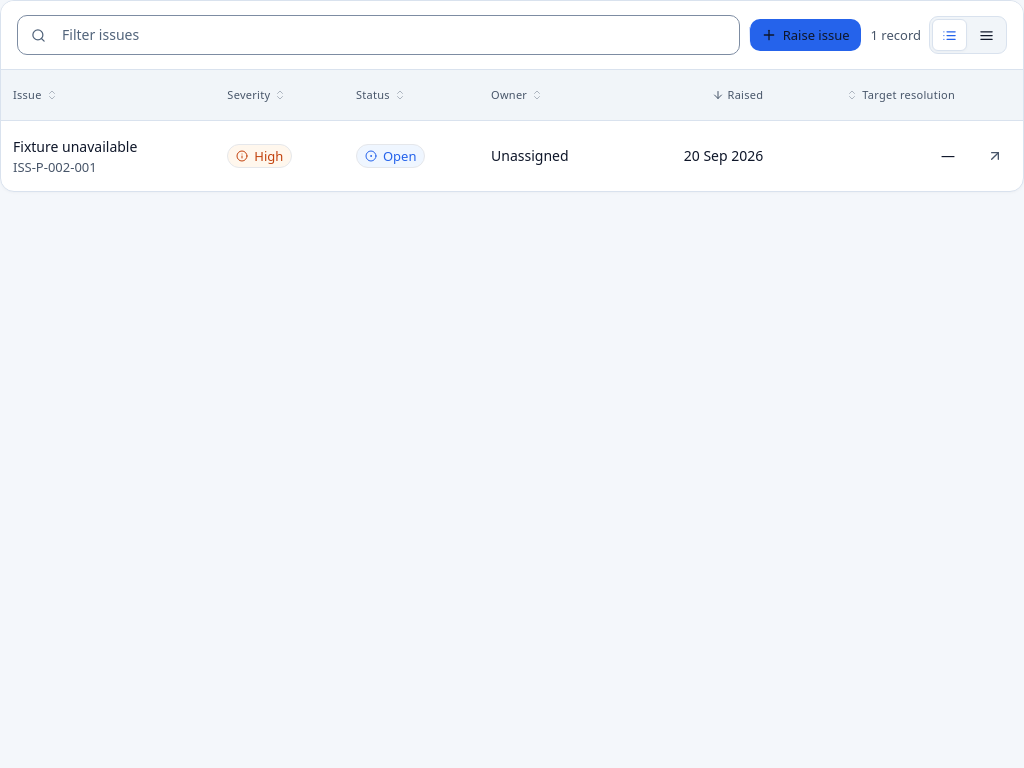
Test: issue register › raises an issue without inventing its reference
Click the button named "Raise issue" at (805, 35), box [748, 17, 863, 53]
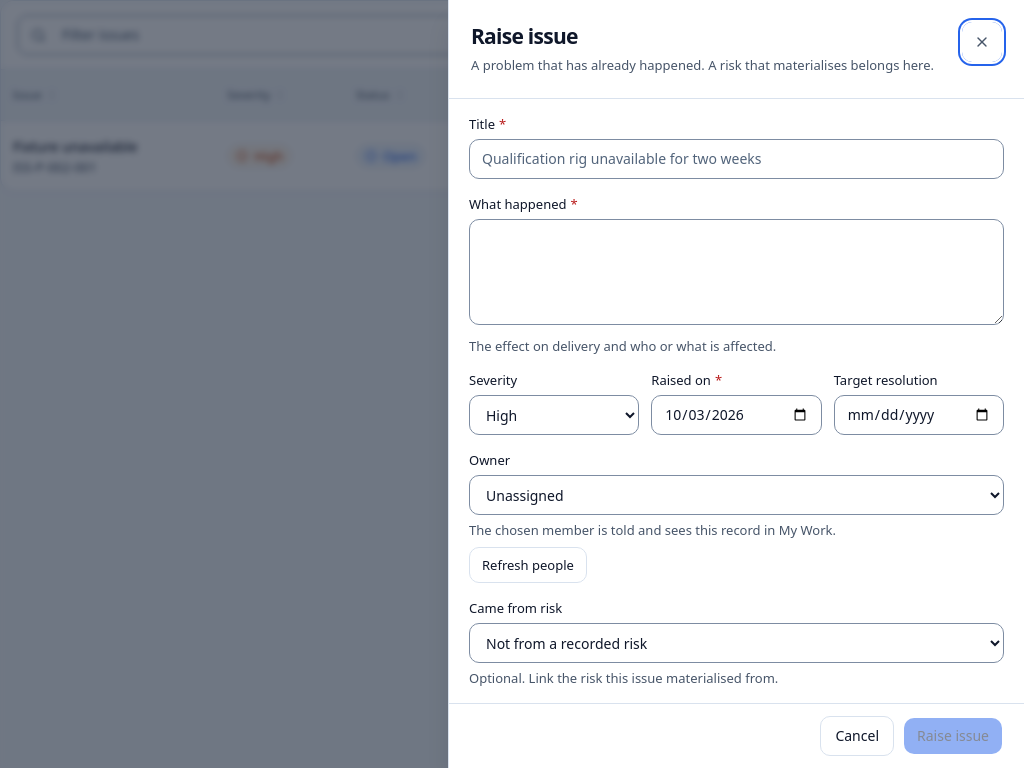
Check: the 3rd button named "Raise issue" is disabled, box [902, 716, 1004, 756]
Type "Supplier sample late" into the field labelled "Title" at (736, 159), box [469, 139, 1004, 179]
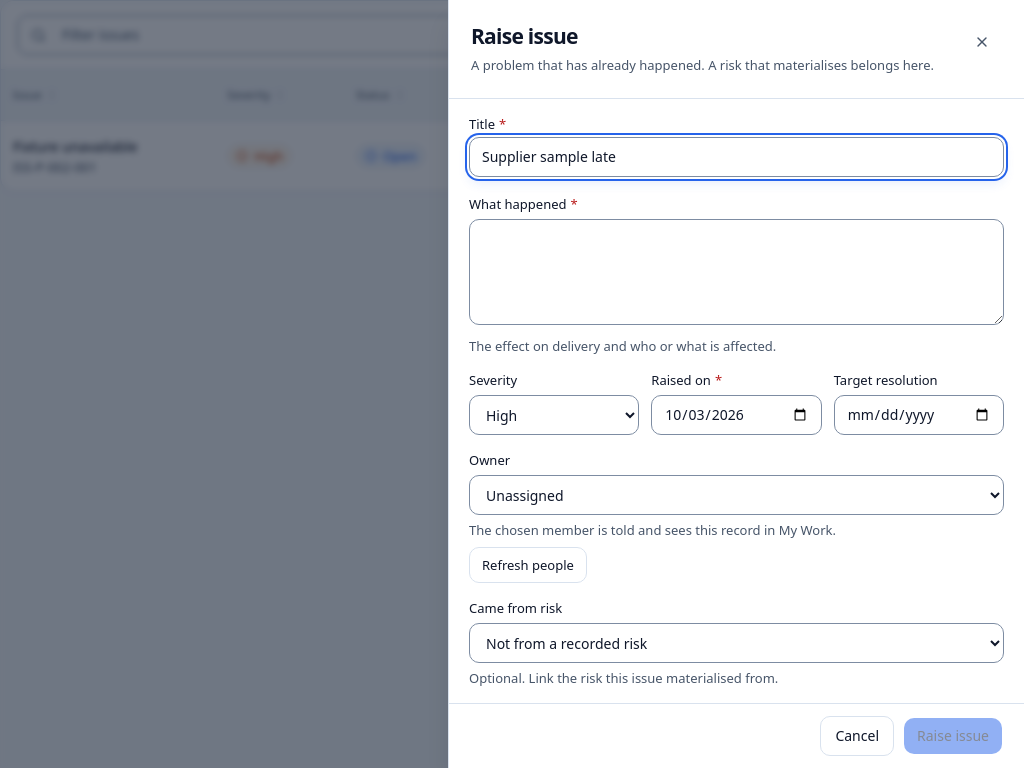
Type "The supplier sample did not arrive for qualification." into the text box labelled "What happened" at (736, 272), box [469, 219, 1004, 325]
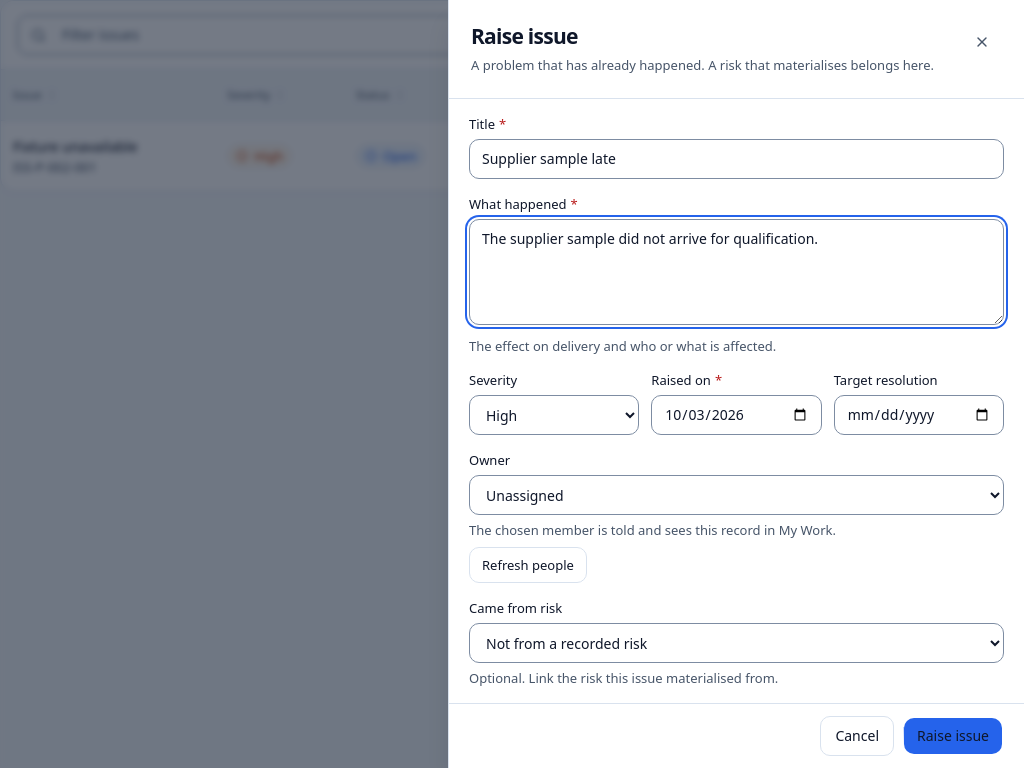
Select "Critical" in the dropdown labelled "Severity" at (554, 415), box [469, 395, 639, 435]
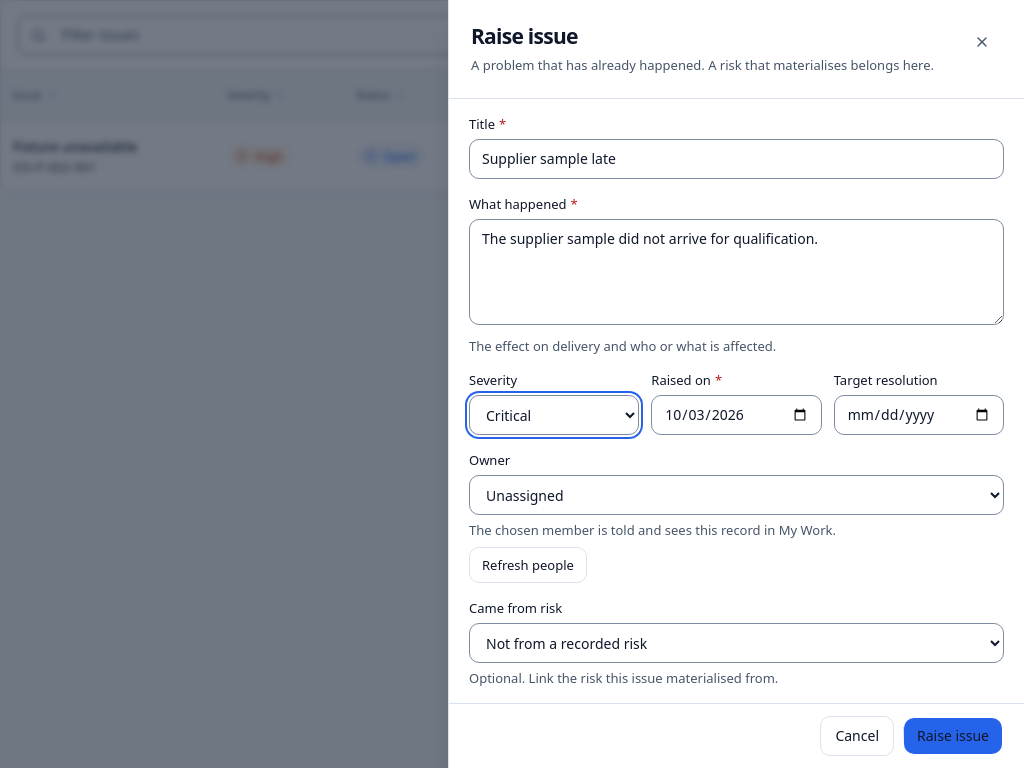
Click the 3rd button named "Raise issue" at (953, 736), box [902, 716, 1004, 756]
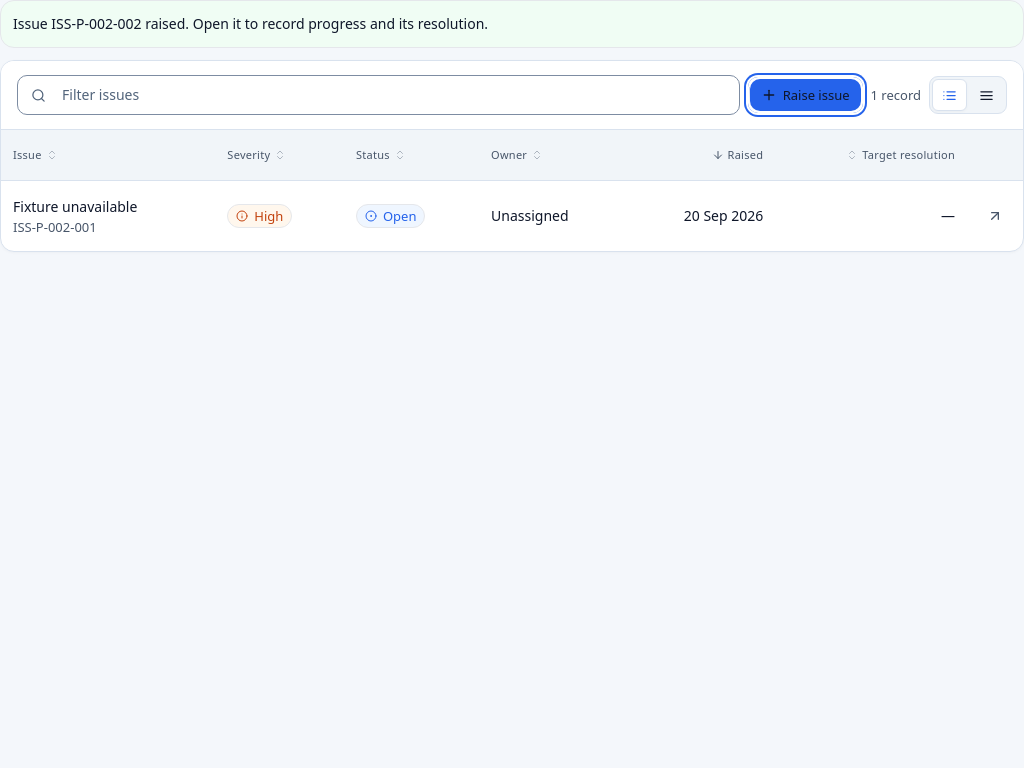
Check: the text "Issue ISS-P-002-002 raised. Open it to record progress and its resolution." is shown, box [0, 0, 1023, 48]
